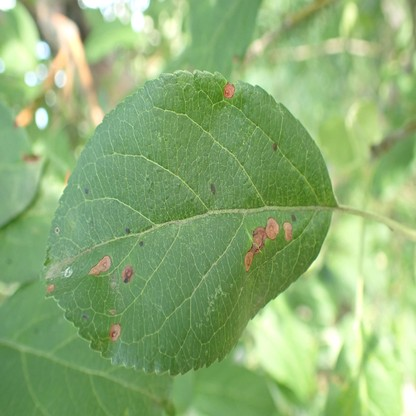frogeye_leaf_spot: (245, 217, 279, 267), (89, 256, 112, 276), (121, 264, 135, 284), (109, 322, 121, 340), (223, 81, 235, 97), (283, 222, 293, 240), (47, 284, 55, 293), (109, 308, 116, 316)
powdery_mildew: (239, 279, 261, 325), (48, 262, 64, 277)
